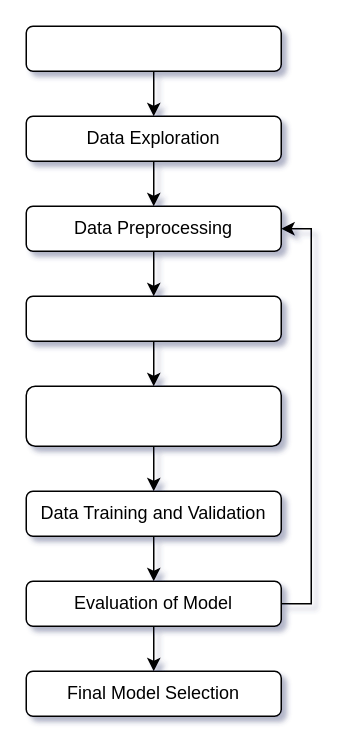
Image size: 359x752. Some labels were removed from this diagram. Here are the shapes that lost their labels. From the top down, the centre of each, then its label:
At pixel 153 48: "Data Collection".
At pixel 153 318: "Image Processing".
At pixel 153 415: "Model Selection for Machine Learning".
